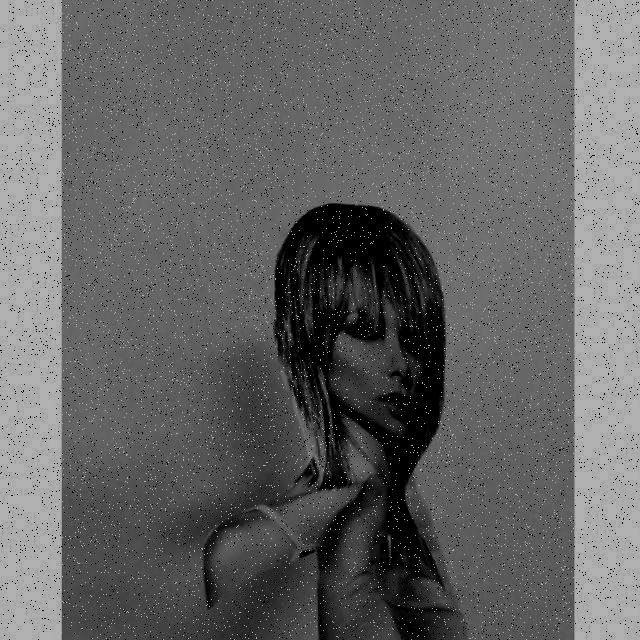fake: (203, 191, 467, 617)
